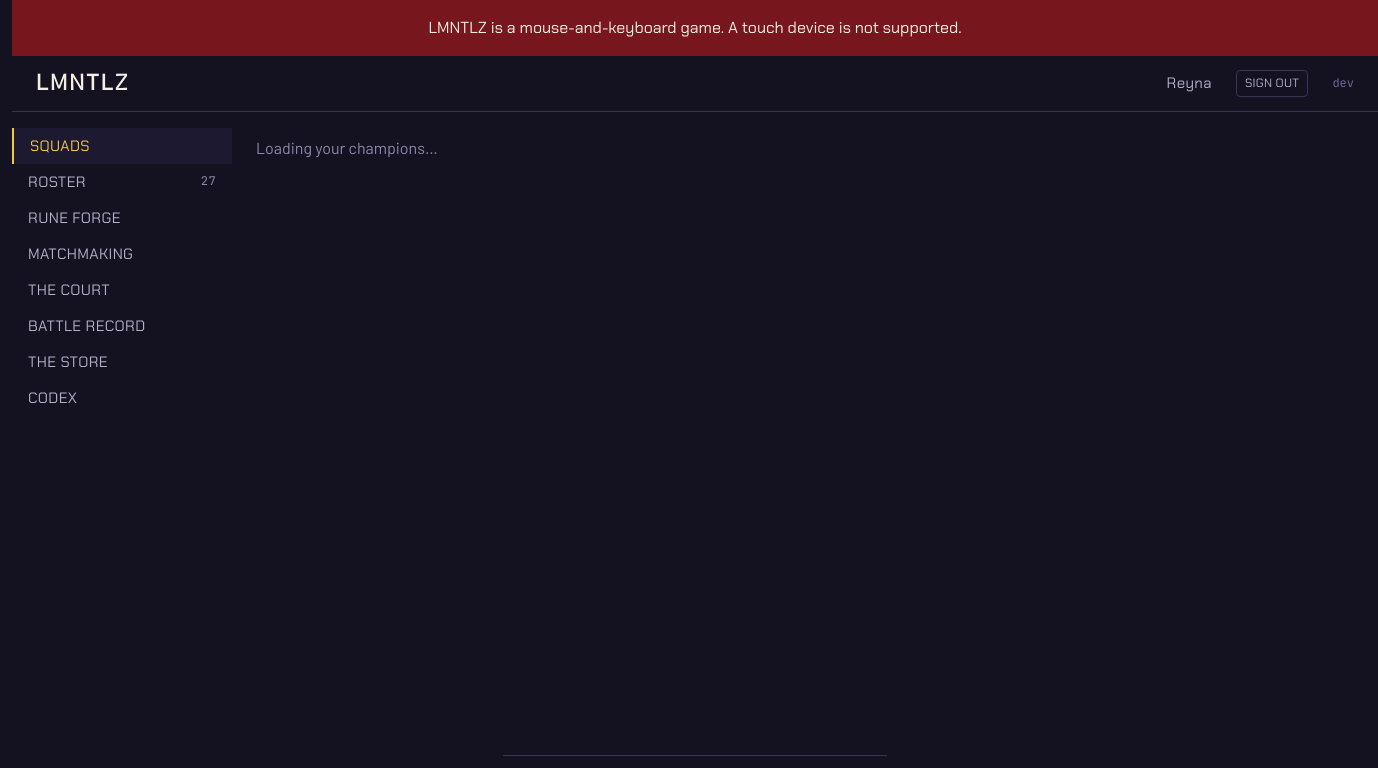
Test: every rail destination is reachable from App › reaches the battle record, and it asks for the list
This screenshot has width=1378, height=768.
Expected: the navigation bar named "Main" is shown, [12,112,232,432]
Click the button "Battle Record".
click(122, 326)  # box [12,308,232,344]
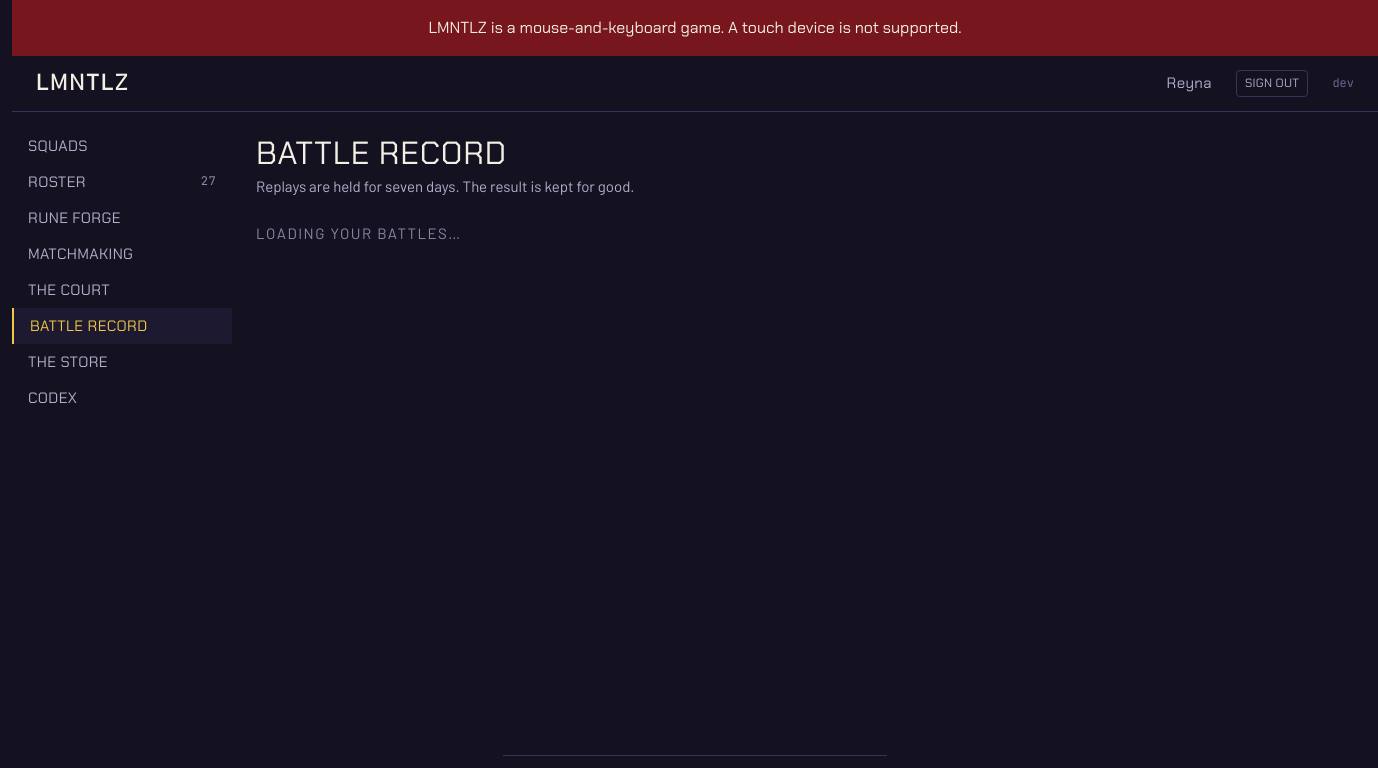
Expected: the message shows "Loading your battles", [256,224,462,242]
